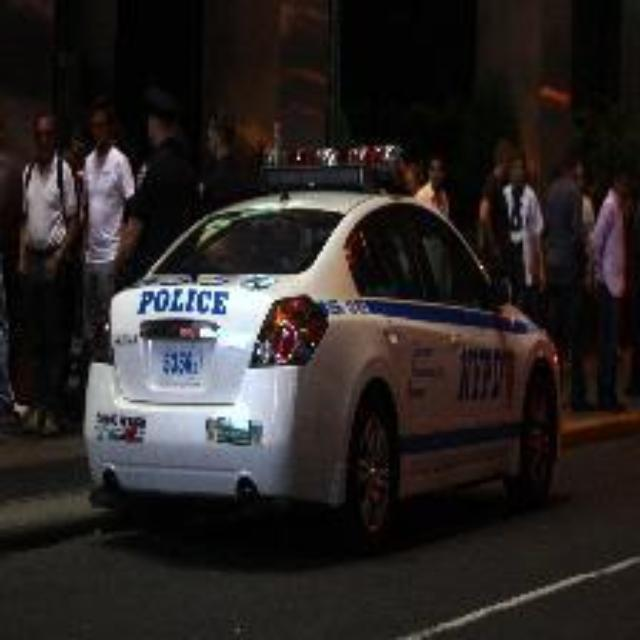emergency: (73, 140, 564, 546)
